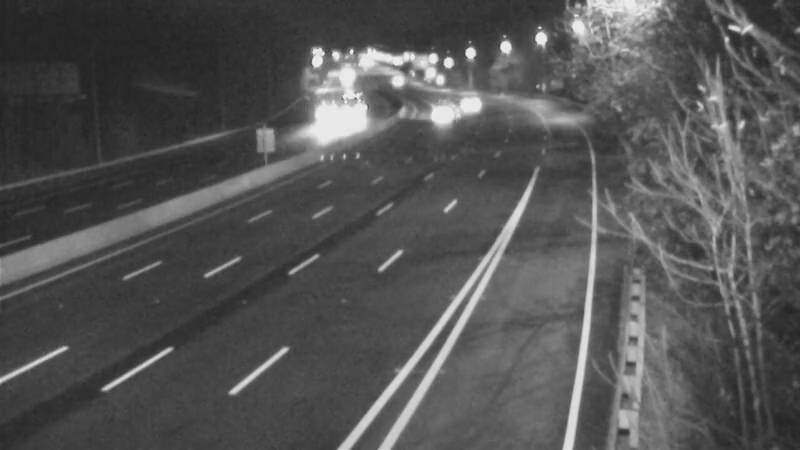vehicle: (369, 57, 419, 107), (443, 78, 493, 128), (413, 91, 463, 141), (299, 96, 349, 146), (326, 93, 376, 143)
